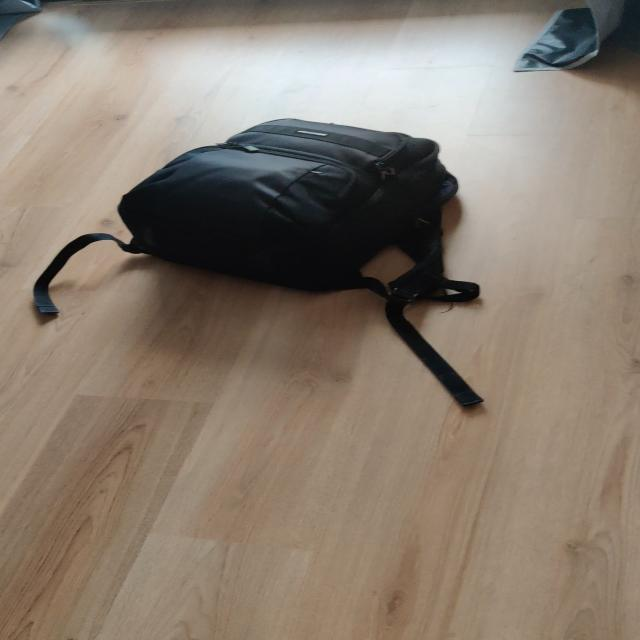backpack: (109, 111, 474, 299)
